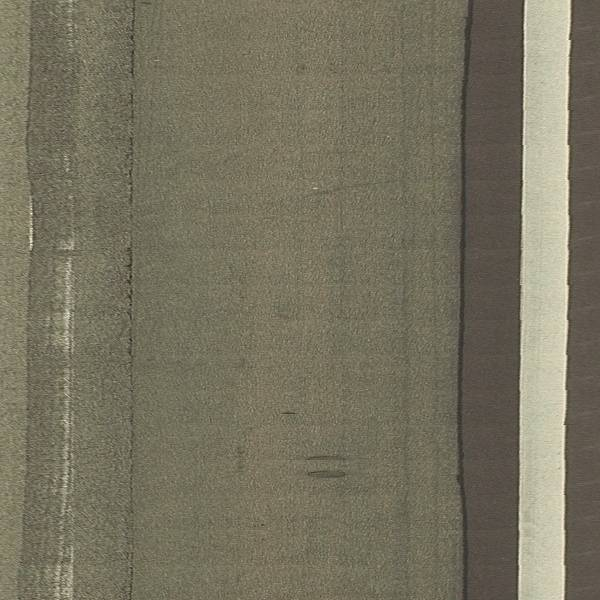road_damage: (297, 465, 353, 483)
